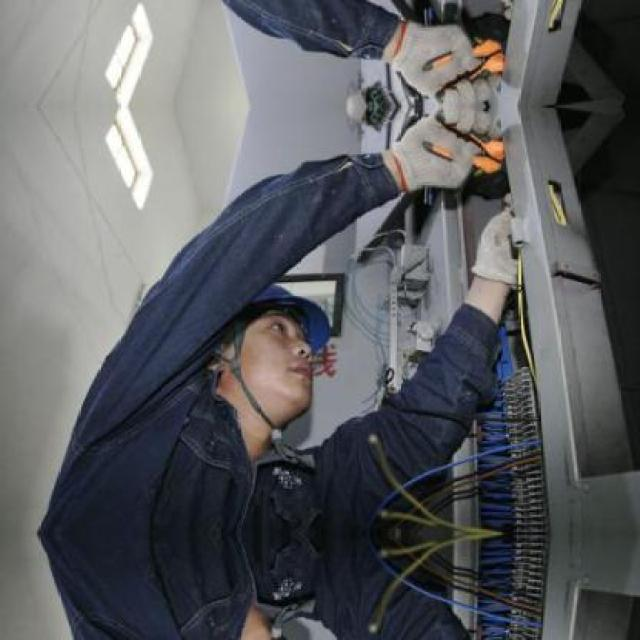helmet: (196, 260, 342, 432)
